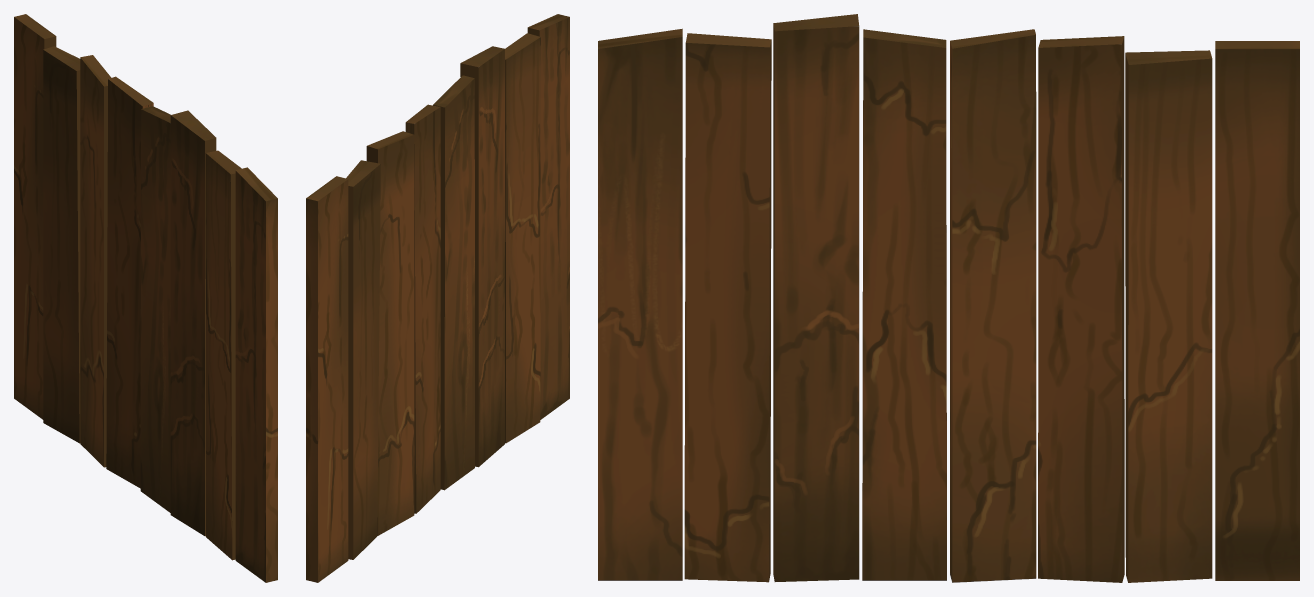
File: planks1_texture.fbx
The picture shows the model from 3 angles, left to right: view 1: azimuth 30°, elevation 25°; view 2: azimuth 150°, elevation 25°; view 3: azimuth 270°, elevation 25°; orthographic projection. The views are drawn at different scales.
Visible parts, largest first — view 1: polySurface1; view 2: polySurface1; view 3: polySurface1.
Part boxes in pixels (x1,y1,x2,y2): polySurface1: (14,14,277,582); polySurface1: (306,14,569,582); polySurface1: (598,14,1299,582).
Bounding box in the file's own units: 45.34 × 804 × 918.
